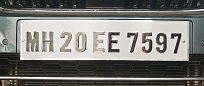0: (91, 30, 105, 54), (73, 31, 87, 53)
2: (59, 30, 73, 54)
5: (140, 31, 153, 54)
7: (169, 31, 183, 55), (126, 31, 140, 54)
9: (155, 32, 167, 53)
E: (107, 30, 121, 54)
H: (41, 30, 55, 53)
M: (24, 30, 39, 53)
